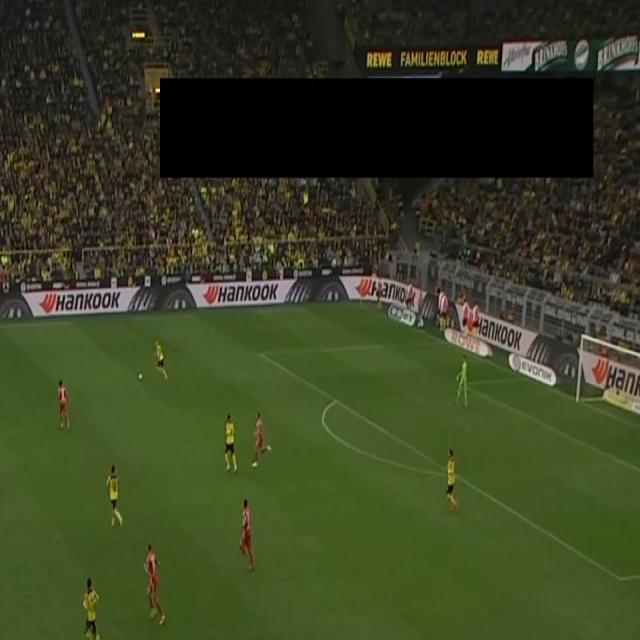ball: (138, 371, 144, 381)
